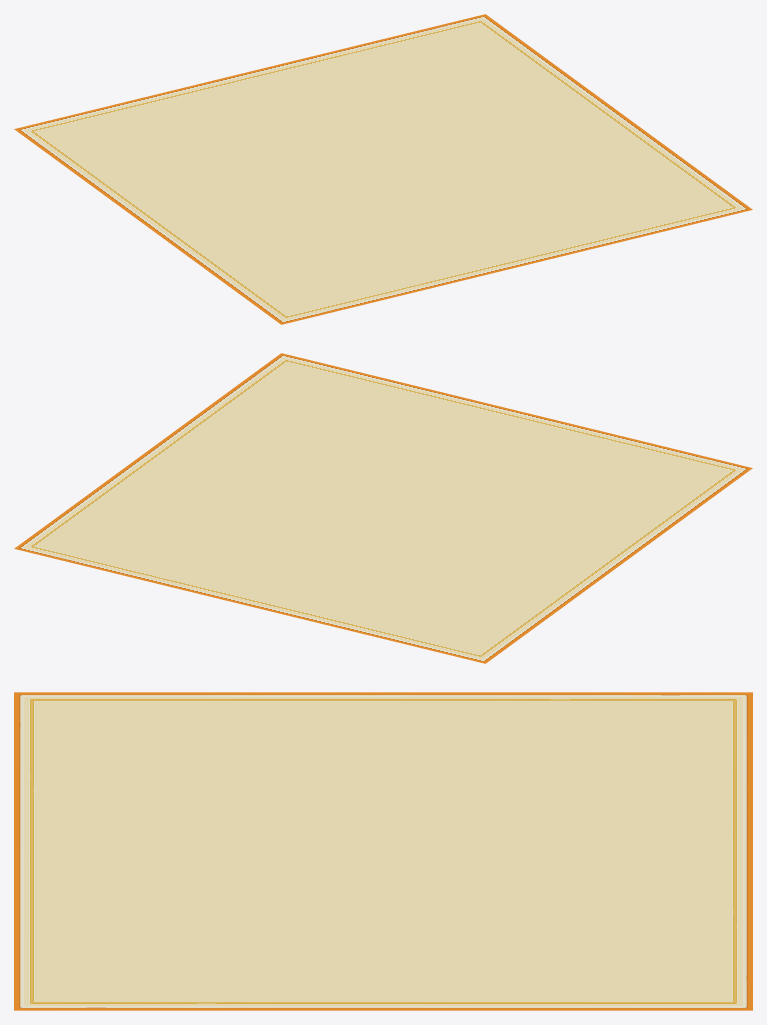
Rendered from my_shoppingmall_01_carpet_03.glb.
3 renders of one model, top to bottom at view 1: azimuth 30°, elevation 25°; view 2: azimuth 150°, elevation 25°; view 3: azimuth 270°, elevation 25°, orthographic. The views are drawn at different scales.
Visible parts, largest first — view 1: my_shoppingmall_01_carpet_03; view 2: my_shoppingmall_01_carpet_03; view 3: my_shoppingmall_01_carpet_03.
Part boxes in pixels (bbox=[...]): my_shoppingmall_01_carpet_03: bbox=[14, 14, 752, 324]; my_shoppingmall_01_carpet_03: bbox=[14, 353, 752, 663]; my_shoppingmall_01_carpet_03: bbox=[14, 692, 752, 1010].
Size of the model in its own units: 0.0286 by 0 by 0.028.
Materials: 1 (1 with a texture image).
